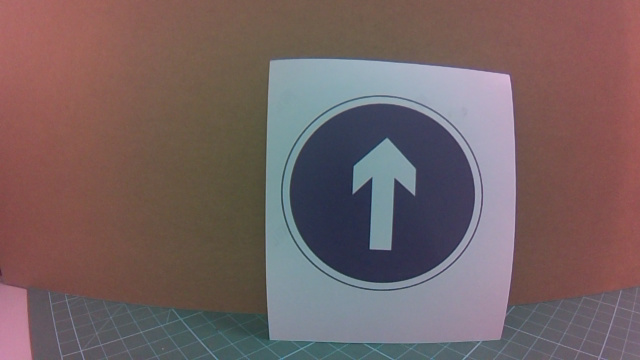forward: (287, 86, 482, 292)
